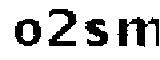2: (47, 6, 78, 50)
m: (115, 14, 160, 54)
o: (13, 18, 44, 47)
s: (84, 16, 109, 47)
